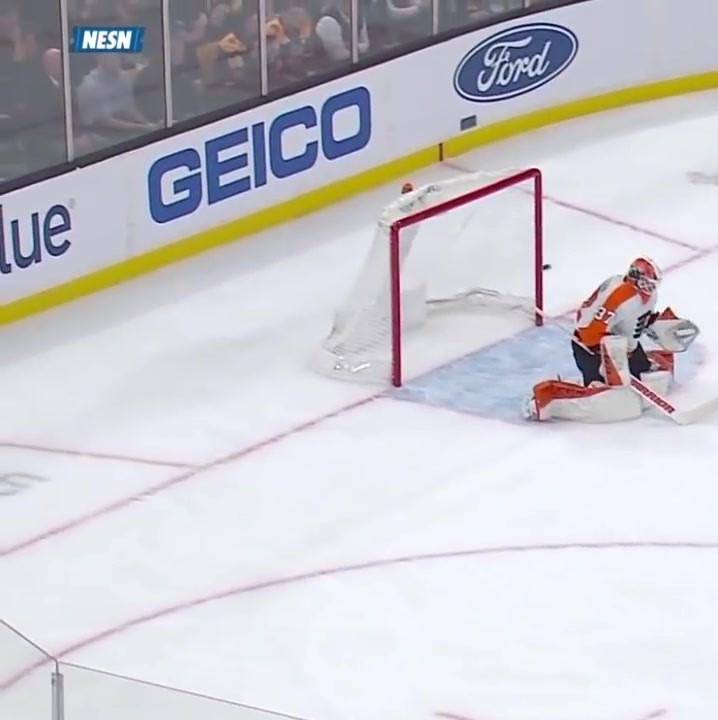Geico: (135, 74, 377, 242)
